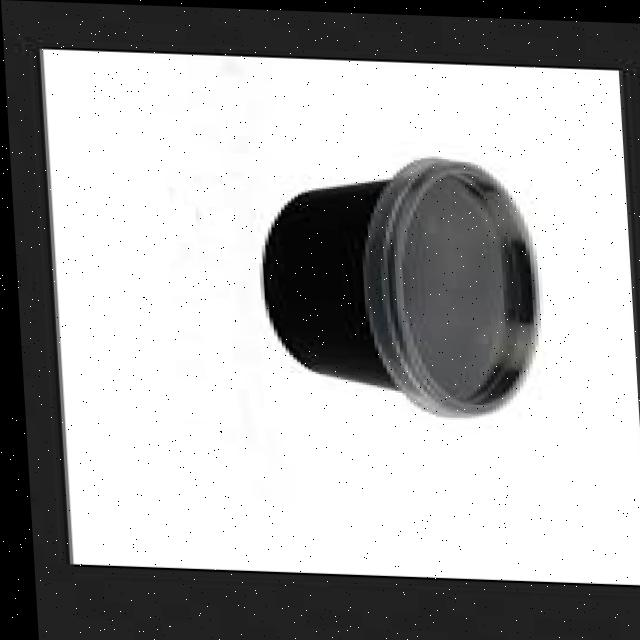disposable: (226, 141, 554, 436)
